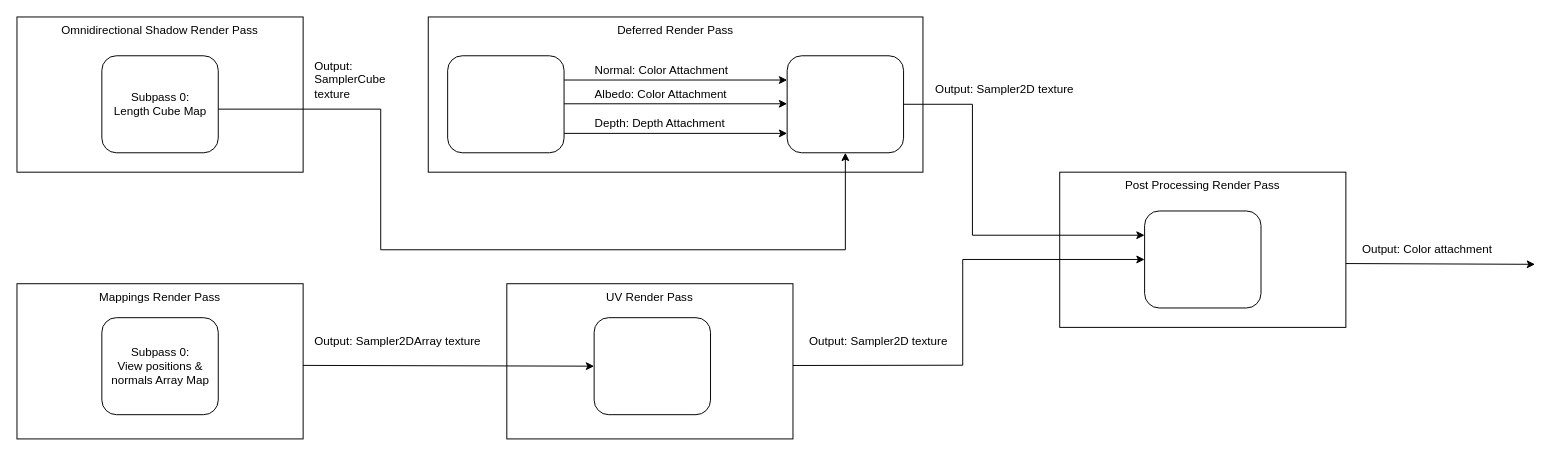
The diagram is 1560 pixels wide and 456 high, and some of its shapes have lost their labels. Each missing label, with the centre of its shape:
"Subpass 0: G-buffer" belongs at (x=505, y=104).
"Subpass 0: Scene with reflections" belongs at (x=1202, y=259).
"Subpass 0: UV position being reflected per-fragment" belongs at (x=652, y=366).
"Subpass 1: Composition buffer" belongs at (x=845, y=104).
